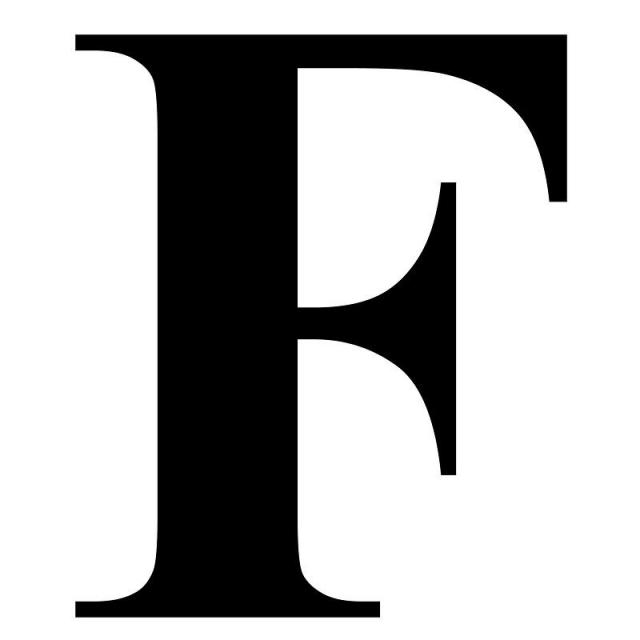F: (37, 7, 619, 640)
